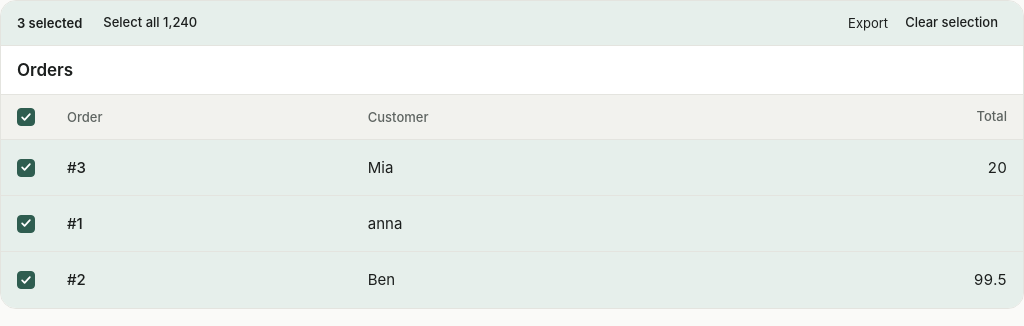
Test case: QTable › offers "Select all" across pages and passes allMatching to the bulk actions
Click the button "Select all 1,240" at x=150, y=23, box [94,9,206,37]
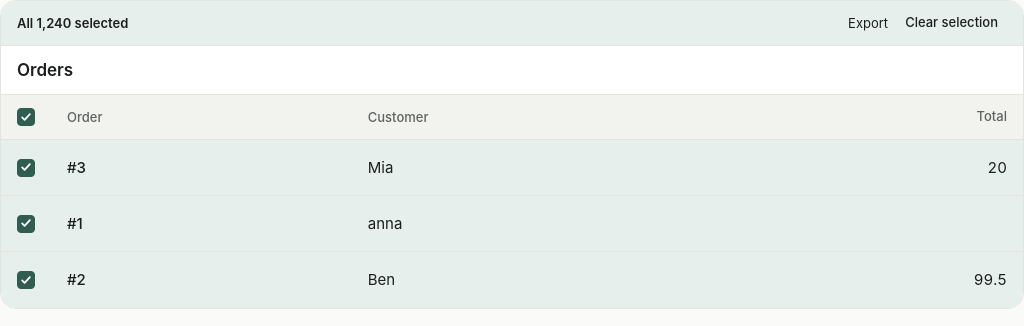
Now the text "All 1,240 selected" is shown, box [17,14,128,32]
